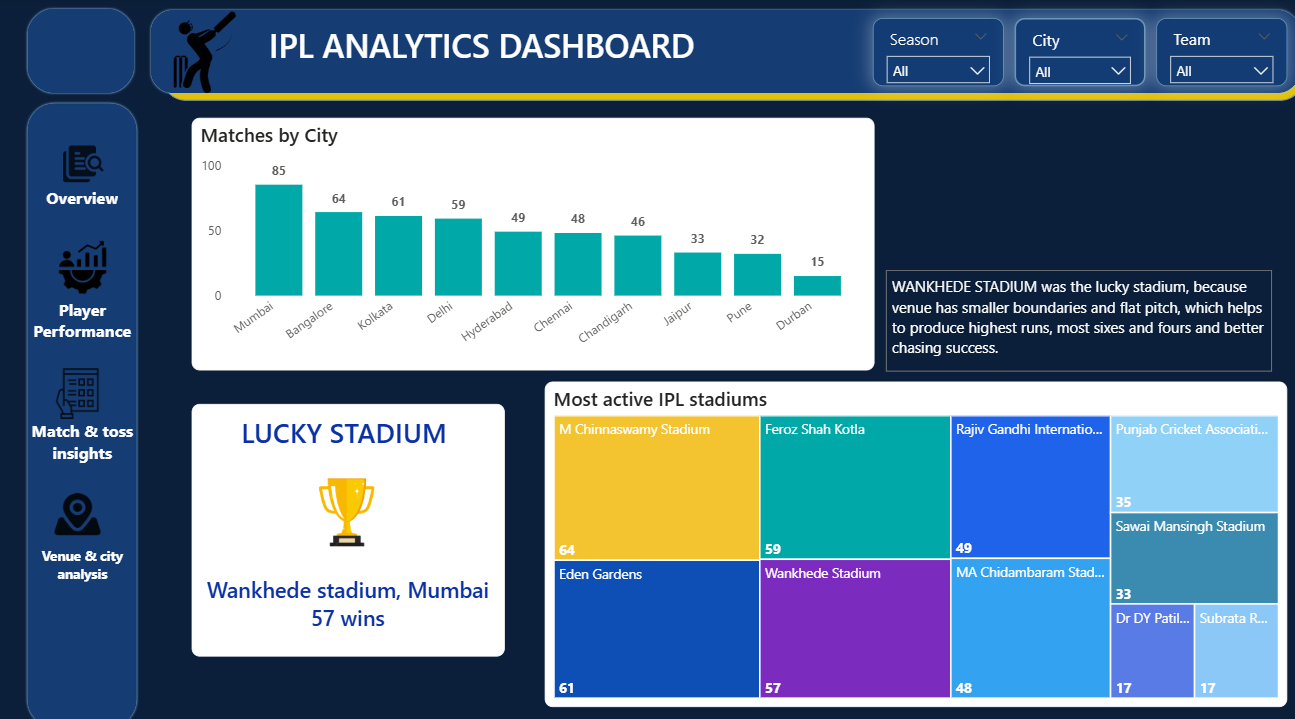

The page's visual inventory and layout, read from the dashboard file:
{"tool":"powerbi","page":{"name":"Venue & city analysis","canvas":[1280,720],"ordinal":3},"visuals":[{"type":"shape","box":[161.3,20.6,1118.5,81.3],"z":0},{"type":"shape","title":"IPL DASHBOARD","box":[145.8,10.3,1134,86.4],"z":1000},{"type":"slicer","fields":{"Values":["matches (1) - matches (1) csv.season"]},"box":[857.9,20.6,129,67.1],"z":2000},{"type":"slicer","fields":{"Values":["matches (1) - matches (1) csv.city"]},"box":[997.3,20.6,129,67.1],"z":3000},{"type":"slicer","fields":{"Values":["matches (1) - matches (1) csv.team1","matches (1) - matches (1) csv.team2"]},"box":[1136.6,20.6,129,67.1],"z":4000},{"type":"shape","box":[24.5,101.9,112.2,618],"z":5000},{"type":"pageNavigator","box":[28.4,141.9,105.8,472.2],"z":6000},{"type":"image","box":[56.8,141.9,49,43.9],"z":7000},{"type":"image","box":[50.3,238.7,61.9,54.2],"z":8000},{"type":"image","box":[49,359.9,52.9,56.8],"z":9000},{"type":"image","box":[50.3,455.4,51.6,105.8],"z":10000},{"type":"textbox","box":[259.3,20.6,459.3,59.3],"z":11000},{"type":"image","box":[161.3,9,80,90.3],"z":12000},{"type":"shape","box":[24.5,9,109.7,87.7],"z":13000},{"type":"textbox","box":[188.5,400.5,307.6,248.7],"z":14000},{"type":"image","box":[282.7,452.9,116.5,107.3],"z":15000},{"type":"treemap","title":"Most active IPL stadiums","fields":{"Group":["matches (1) - matches (1) csv.venue"],"Values":["deliveries - deliveries csv.TEAM VENUE WINS"]},"box":[535.4,378,730.2,319.9],"z":16000},{"type":"clusteredColumnChart","title":"Matches by City","fields":{"Category":["matches (1) - matches (1) csv.city"],"Y":["deliveries - deliveries csv.MATCHES BY CITY"]},"box":[188.5,119.1,671.4,248.7],"z":17000},{"type":"textbox","box":[870.4,268.3,379.6,99.5],"z":18000}]}

Visuals, with their boxes in screenshot pixels (x1, y1, x2, y2), scaled from the page's 1280x720 canvas onto the 1295x719 screenshot:
shape: 163,21,1294,102
"IPL DASHBOARD" shape: 148,10,1294,97
slicer - matches (1) - matches (1) csv.season: 868,21,998,88
slicer - matches (1) - matches (1) csv.city: 1009,21,1139,88
slicer - matches (1) - matches (1) csv.team1 x matches (1) - matches (1) csv.team2: 1150,21,1280,88
shape: 25,102,138,718
pageNavigator: 29,142,136,613
image: 57,142,107,186
image: 51,238,114,292
image: 50,359,103,416
image: 51,455,103,560
textbox: 262,21,727,80
image: 163,9,244,99
shape: 25,9,136,97
textbox: 191,400,502,648
image: 286,452,404,559
"Most active IPL stadiums" treemap: 542,377,1280,697
"Matches by City" clusteredColumnChart: 191,119,870,367
textbox: 881,268,1265,367
